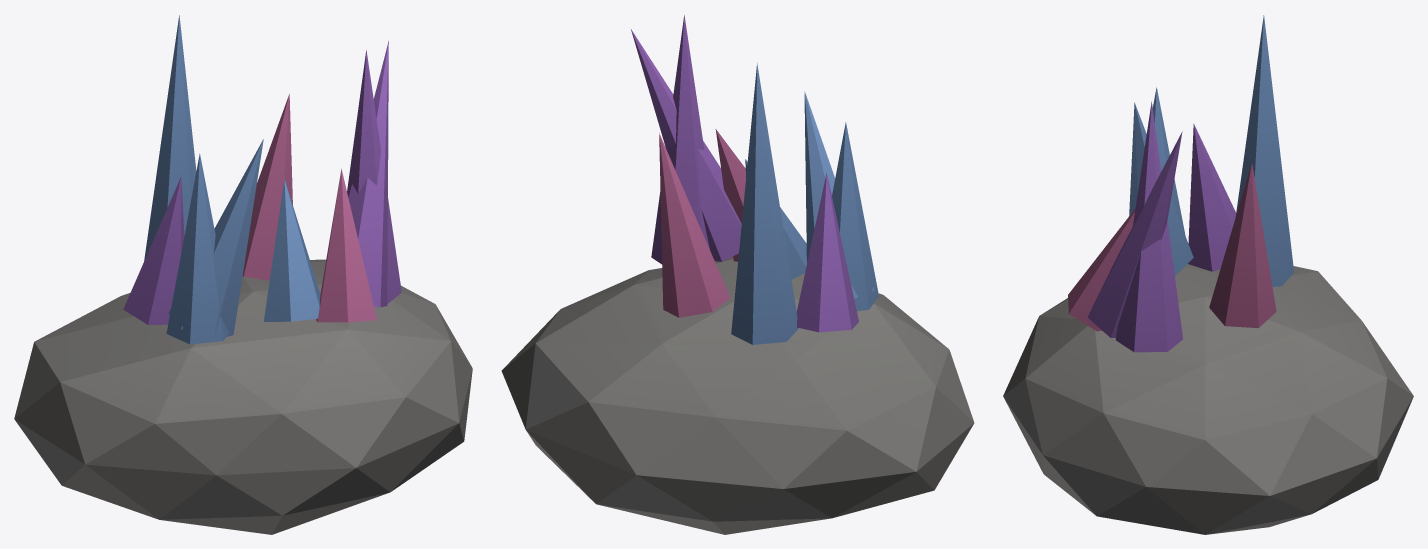
The model's file is crystals.glb.
The picture shows the model from 3 angles, left to right: view 1: azimuth 30°, elevation 25°; view 2: azimuth 150°, elevation 25°; view 3: azimuth 270°, elevation 25°; orthographic projection.
Parts seen in each view (by area): view 1: crystals; view 2: crystals; view 3: crystals.
Part boxes in pixels (bbox=[...]): crystals: bbox=[14, 15, 472, 534]; crystals: bbox=[501, 15, 974, 534]; crystals: bbox=[1003, 15, 1413, 534].
Size of the model in its own units: 3.06 by 3.29 by 2.68.
